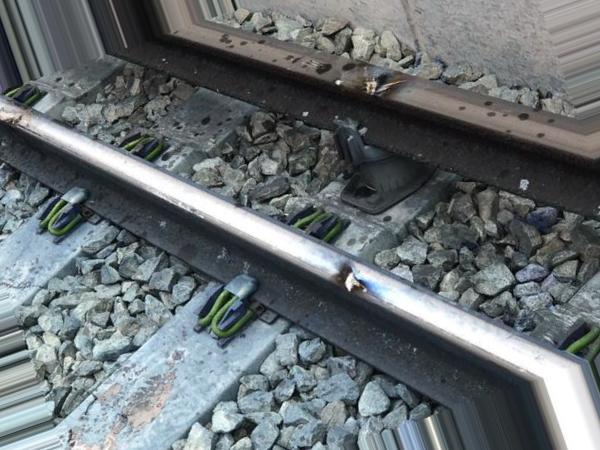tracks_fault: (323, 247, 393, 315)
